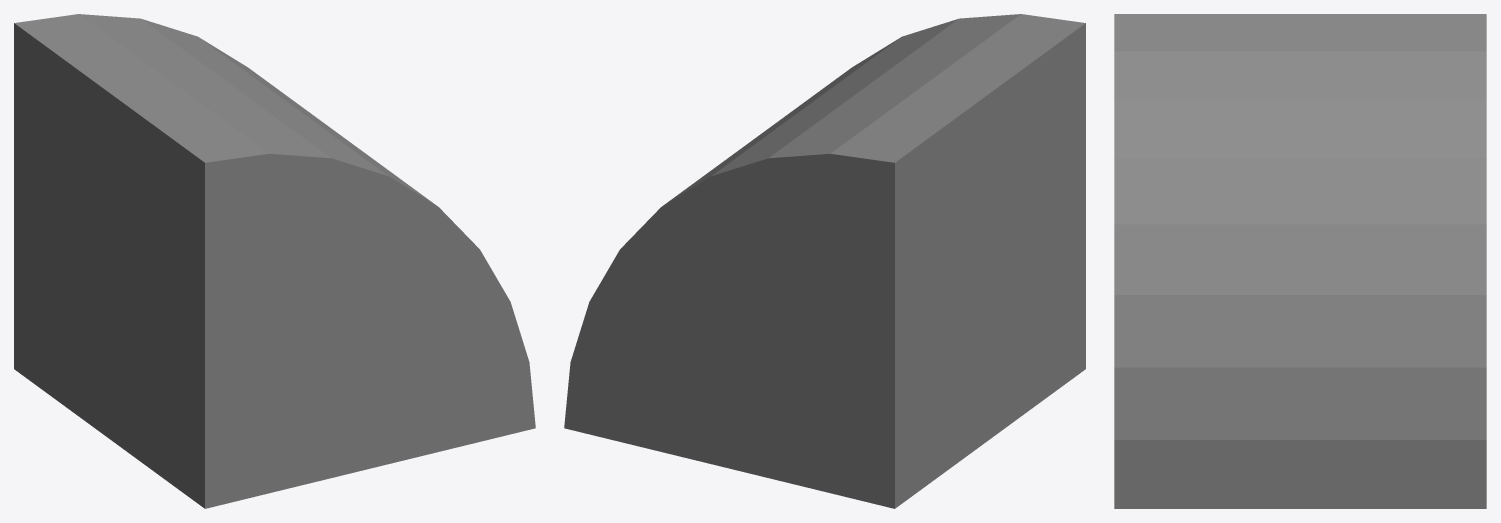
The model's file is r4c3_body_grey.gltf.
3 renders of one model, left to right at view 1: azimuth 30°, elevation 25°; view 2: azimuth 150°, elevation 25°; view 3: azimuth 270°, elevation 25°, orthographic. The views are drawn at different scales.
Visible parts, largest first — view 1: r4c3_body_grey; view 2: r4c3_body_grey; view 3: r4c3_body_grey.
Boxes of the visible parts, x1,y1,x2,y2 form: r4c3_body_grey: (14, 14, 535, 508); r4c3_body_grey: (564, 14, 1085, 508); r4c3_body_grey: (1114, 14, 1486, 508).
Size of what is drawn, in the model's own units: 2 by 2 by 2.
Materials: 1 (1 with a texture image).
